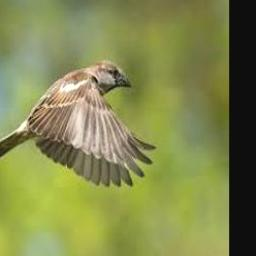Sparrow: (0, 60, 156, 186)
